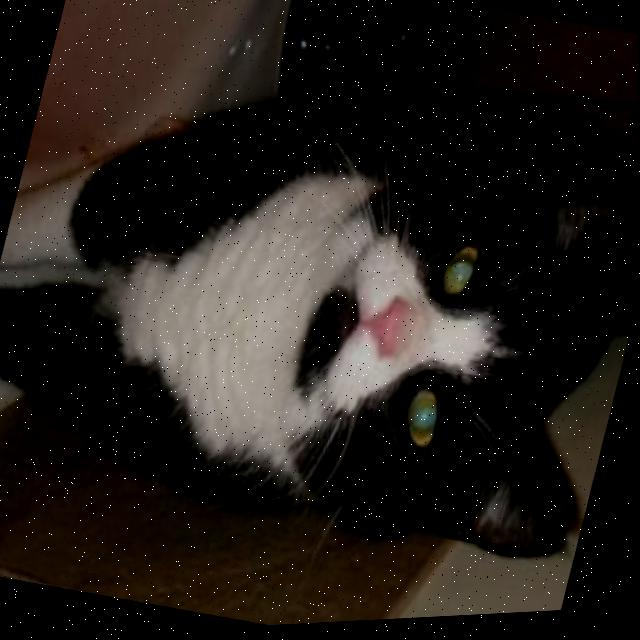Tuxedo: (0, 0, 640, 614)
